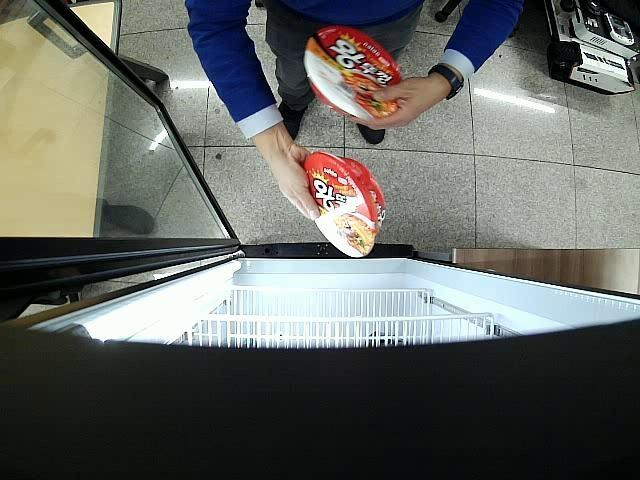10_wangTtukkeong: (305, 28, 405, 120), (303, 152, 387, 257)
